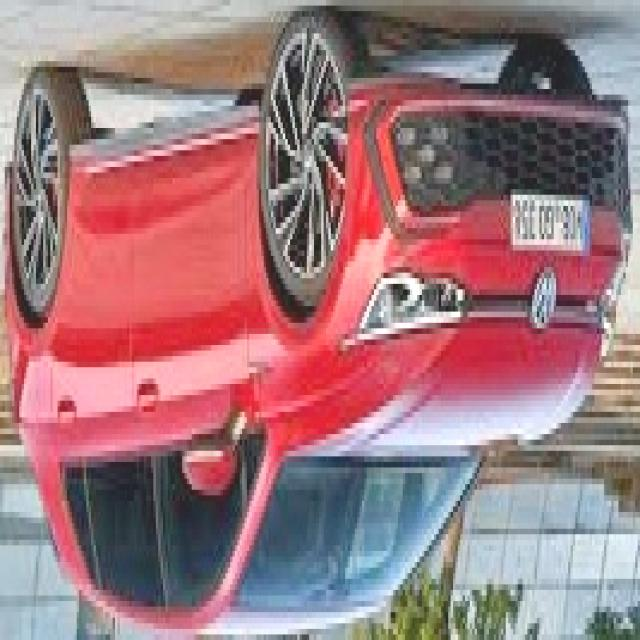red: (2, 58, 633, 628)
